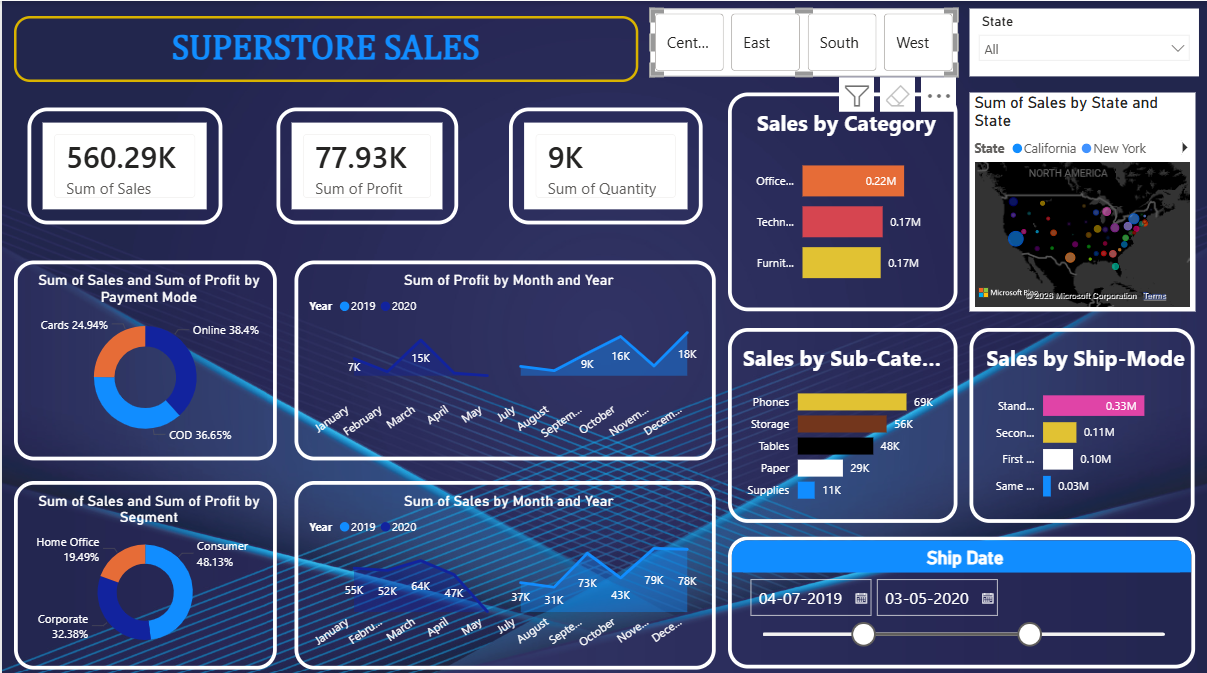

This screenshot's page, from the dashboard's own definition file:
{"tool":"powerbi","page":{"name":"Page 1","canvas":[1280,720],"ordinal":0},"visuals":[{"type":"clusteredBarChart","fields":{"Category":["SuperStore_Sales_Dataset.Category"],"Y":["Sum(SuperStore_Sales_Dataset.Sales)"]},"box":[770,96.7,243.3,231.7],"z":0},{"type":"clusteredBarChart","fields":{"Category":["SuperStore_Sales_Dataset.Sub-Category"],"Y":["Sum(SuperStore_Sales_Dataset.Sales)"]},"box":[770,346.7,243.3,206.7],"z":1000},{"type":"clusteredBarChart","fields":{"Category":["SuperStore_Sales_Dataset.Ship Mode"],"Y":["Sum(SuperStore_Sales_Dataset.Sales)"]},"box":[1026.7,346.7,238.3,206.7],"z":2000},{"type":"slicer","title":"Ship Date","fields":{"Values":["SuperStore_Sales_Dataset.Ship Date"]},"box":[770,568.3,495,140],"z":3000},{"type":"donutChart","fields":{"Y":["Sum(SuperStore_Sales_Dataset.Sales)"],"Category":["SuperStore_Sales_Dataset.Payment Mode"]},"box":[13.3,275,278.3,211.7],"z":4000},{"type":"donutChart","fields":{"Y":["Sum(SuperStore_Sales_Dataset.Sales)"],"Category":["SuperStore_Sales_Dataset.Segment"]},"box":[13.3,508.3,278.3,200],"z":5000},{"type":"stackedAreaChart","fields":{"Category":["SuperStore_Sales_Dataset.Order Date.Variation.Date Hierarchy.Month"],"Y":["Sum(SuperStore_Sales_Dataset.Profit)"],"Series":["SuperStore_Sales_Dataset.Order Date.Variation.Date Hierarchy.Year"]},"box":[310,275,446.7,211.7],"z":6000},{"type":"map","fields":{"Category":["SuperStore_Sales_Dataset.State"],"Series":["SuperStore_Sales_Dataset.State"],"Size":["Sum(SuperStore_Sales_Dataset.Sales)"]},"box":[1026.7,96.7,238.3,231.7],"z":7000},{"type":"stackedAreaChart","fields":{"Category":["SuperStore_Sales_Dataset.Order Date.Variation.Date Hierarchy.Month"],"Y":["Sum(SuperStore_Sales_Dataset.Sales)"],"Series":["SuperStore_Sales_Dataset.Order Date.Variation.Date Hierarchy.Year"]},"box":[310,508.3,446.7,200],"z":8000},{"type":"slicer","fields":{"Values":["SuperStore_Sales_Dataset.State"]},"box":[1026.7,8.3,243.3,71.7],"z":9000},{"type":"advancedSlicerVisual","fields":{"Values":["SuperStore_Sales_Dataset.Region"]},"box":[686.7,8.3,326.7,71.7],"z":10000},{"type":"textbox","box":[13.3,16.7,661.7,70],"z":11000},{"type":"cardVisual","title":"Sales","fields":{"Data":["Sum(SuperStore_Sales_Dataset.Sales)"]},"box":[27,112.9,206.8,124.1],"z":12000},{"type":"cardVisual","title":"Sales","fields":{"Data":["Sum(SuperStore_Sales_Dataset.Profit)"]},"box":[291.1,112.9,192.5,124.1],"z":13000},{"type":"cardVisual","title":"Sales","fields":{"Data":["Sum(SuperStore_Sales_Dataset.Quantity)"]},"box":[537.6,112.9,205.2,124.1],"z":14000}]}

Visuals, with their boxes in screenshot pixels (x1, y1, x2, y2), scaled from the page's 1280x720 canvas onto the 1207x673 screenshot:
clusteredBarChart - SuperStore_Sales_Dataset.Category x Sum(SuperStore_Sales_Dataset.Sales): left=726, top=90, right=956, bottom=307
clusteredBarChart - SuperStore_Sales_Dataset.Sub-Category x Sum(SuperStore_Sales_Dataset.Sales): left=726, top=324, right=956, bottom=517
clusteredBarChart - SuperStore_Sales_Dataset.Ship Mode x Sum(SuperStore_Sales_Dataset.Sales): left=968, top=324, right=1193, bottom=517
"Ship Date" slicer: left=726, top=531, right=1193, bottom=662
donutChart - Sum(SuperStore_Sales_Dataset.Sales) x SuperStore_Sales_Dataset.Payment Mode: left=13, top=257, right=275, bottom=455
donutChart - Sum(SuperStore_Sales_Dataset.Sales) x SuperStore_Sales_Dataset.Segment: left=13, top=475, right=275, bottom=662
stackedAreaChart - SuperStore_Sales_Dataset.Order Date.Variation.Date Hierarchy.Month x Sum(SuperStore_Sales_Dataset.Profit): left=292, top=257, right=714, bottom=455
map - SuperStore_Sales_Dataset.State x SuperStore_Sales_Dataset.State: left=968, top=90, right=1193, bottom=307
stackedAreaChart - SuperStore_Sales_Dataset.Order Date.Variation.Date Hierarchy.Month x Sum(SuperStore_Sales_Dataset.Sales): left=292, top=475, right=714, bottom=662
slicer - SuperStore_Sales_Dataset.State: left=968, top=8, right=1198, bottom=75
advancedSlicerVisual - SuperStore_Sales_Dataset.Region: left=648, top=8, right=956, bottom=75
textbox: left=13, top=16, right=637, bottom=81
"Sales" cardVisual: left=25, top=106, right=220, bottom=222
"Sales" cardVisual: left=274, top=106, right=456, bottom=222
"Sales" cardVisual: left=507, top=106, right=700, bottom=222
